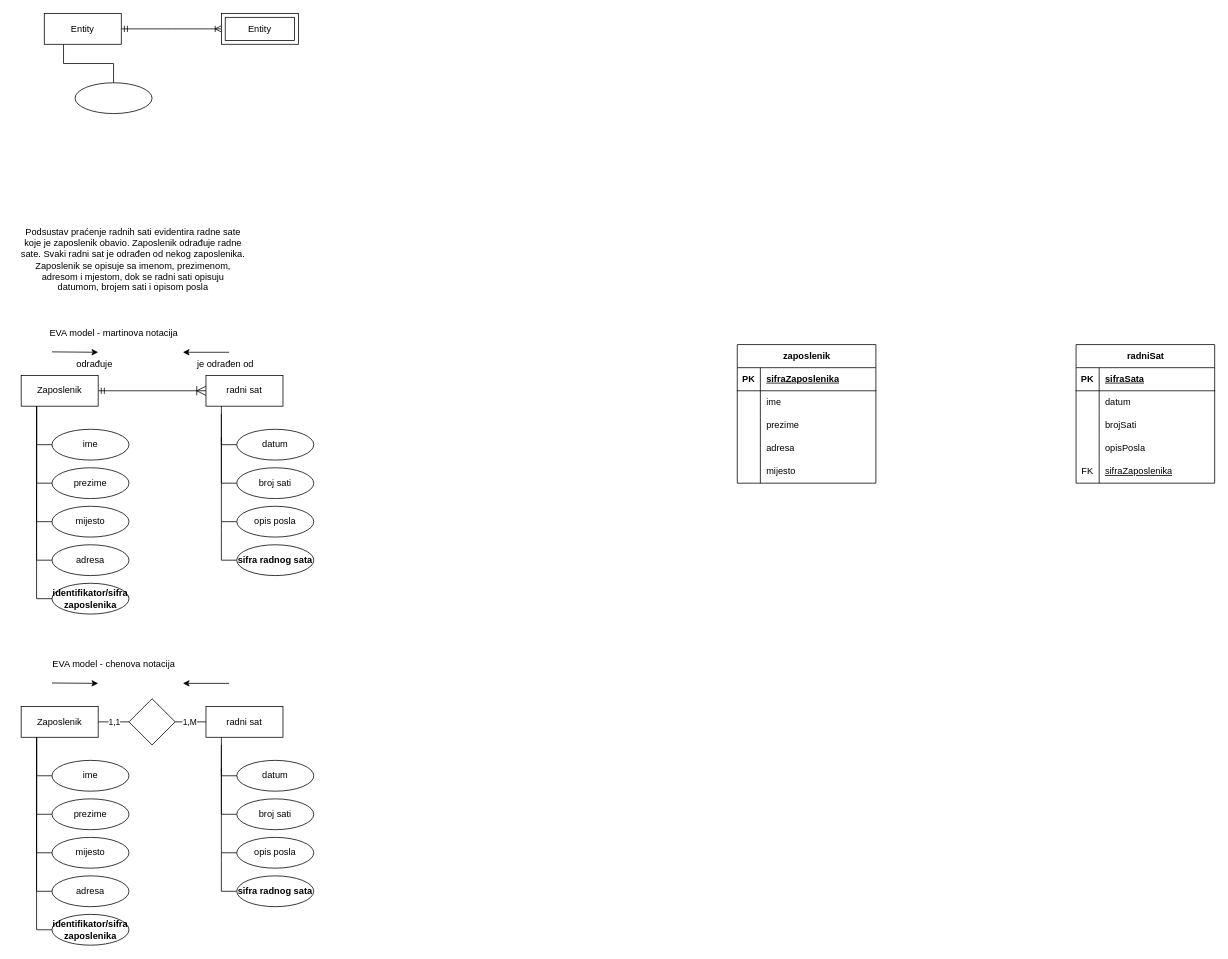
Some shapes in this 1228 by 959 pixel diagram are drawn without their labels. Here are the shapes that lost their labels. From the top down, the centre of each, then its label:
At [113,98]: "Attribute".
At [151,721]: "odrađivati".
